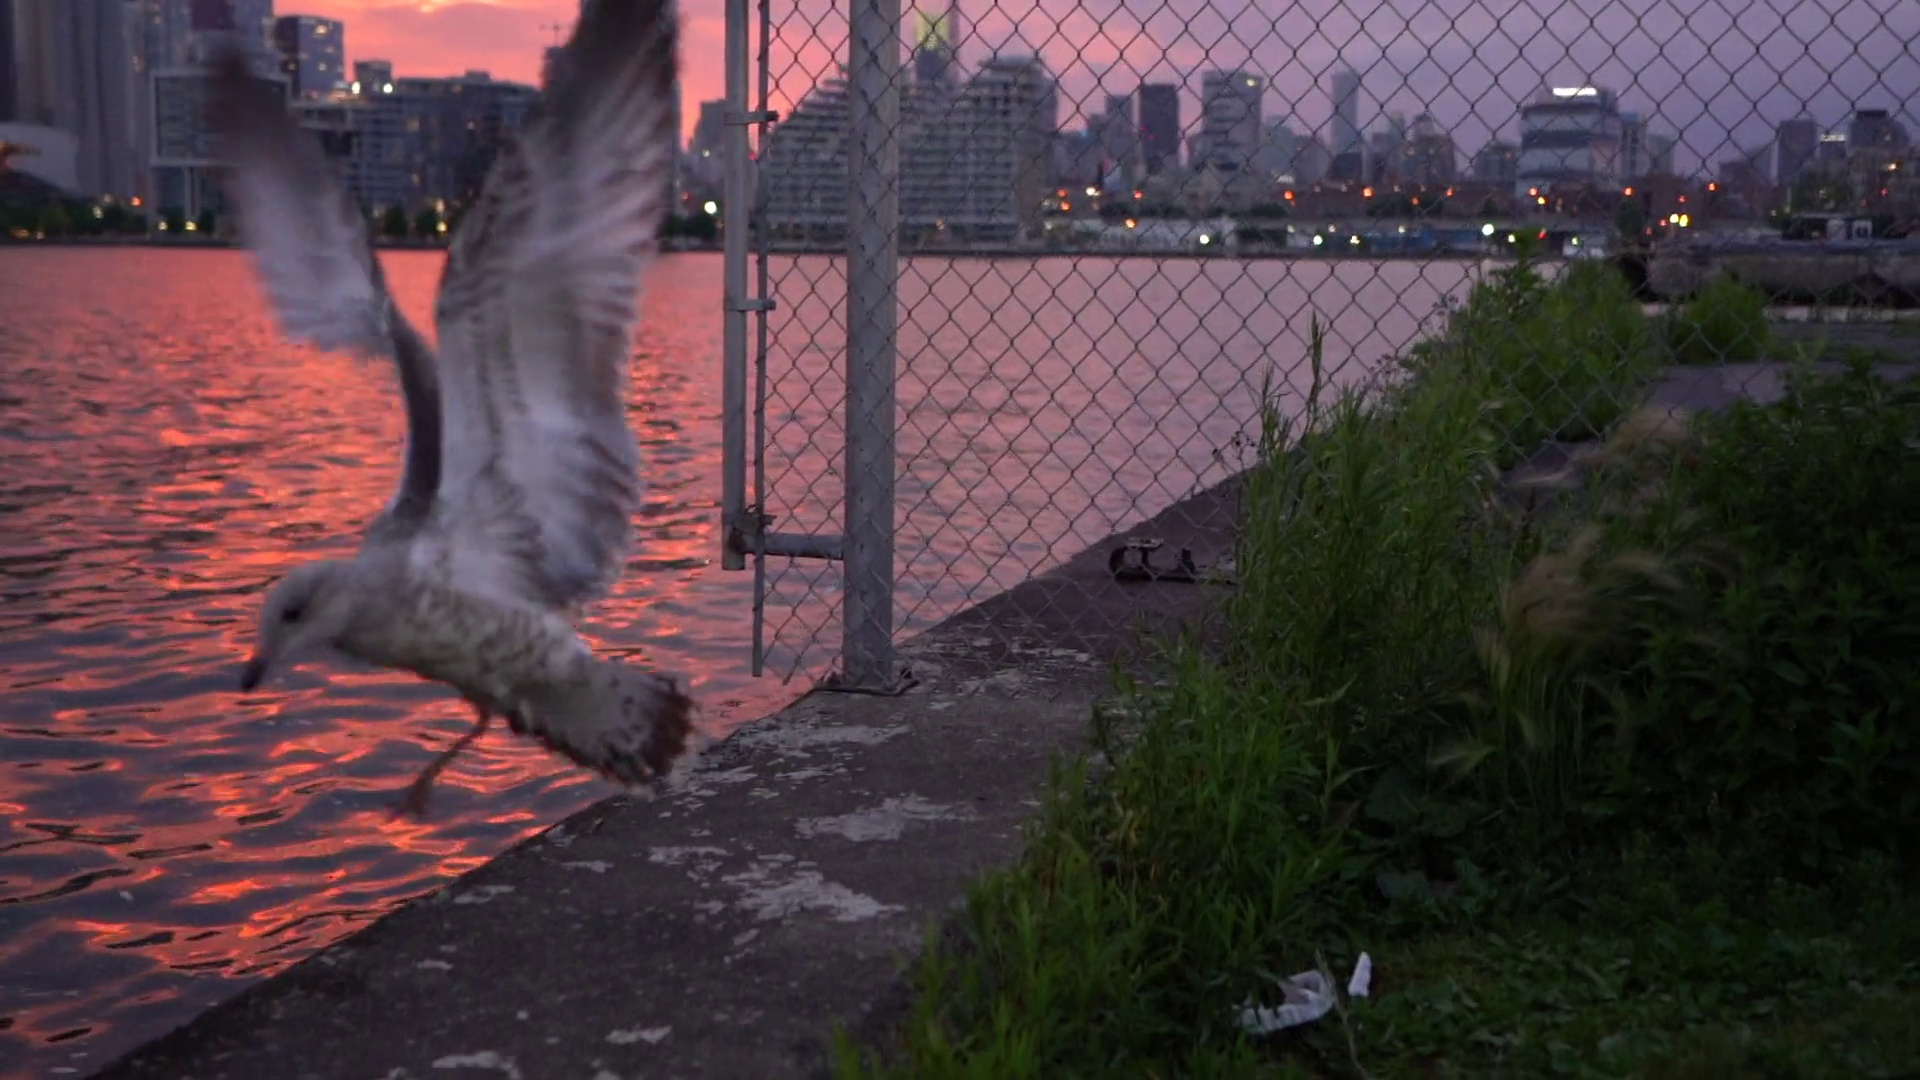bird: (211, 1, 700, 822)
